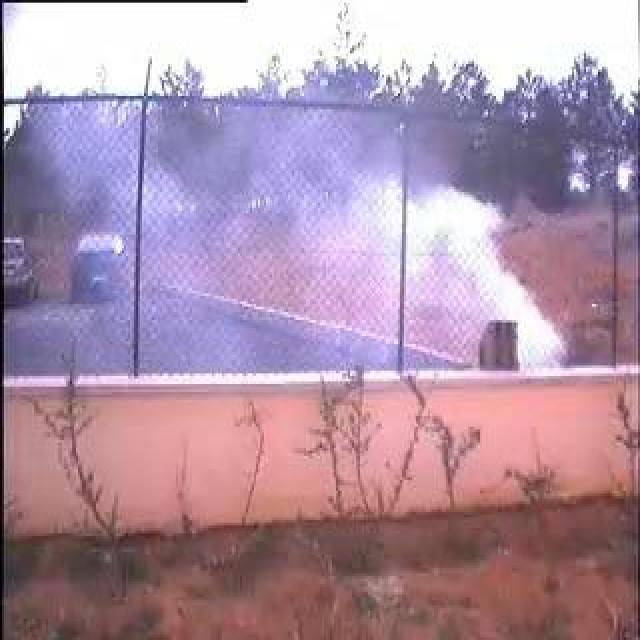Smoke: (121, 117, 553, 368)
